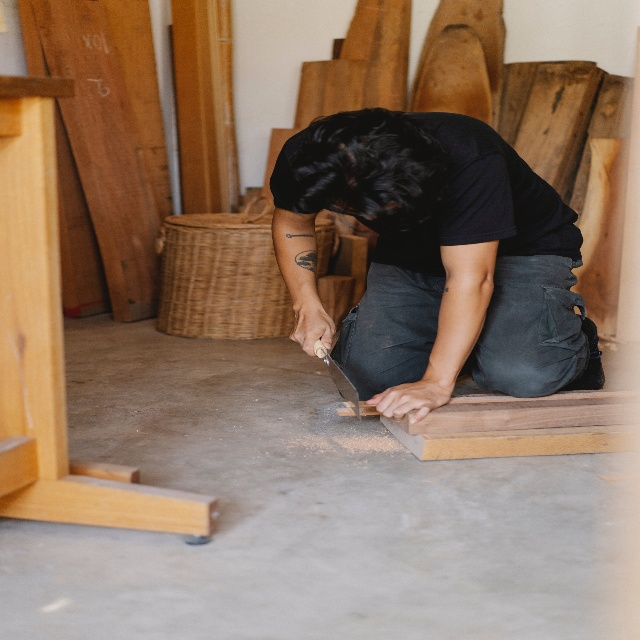Sin_guantes: (365, 378, 452, 425), (289, 298, 336, 357)
